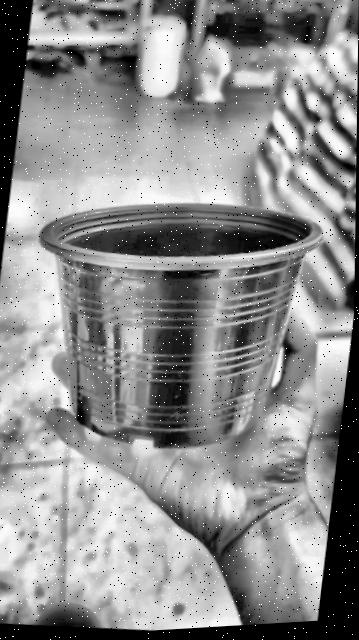pot: (39, 204, 322, 446)
